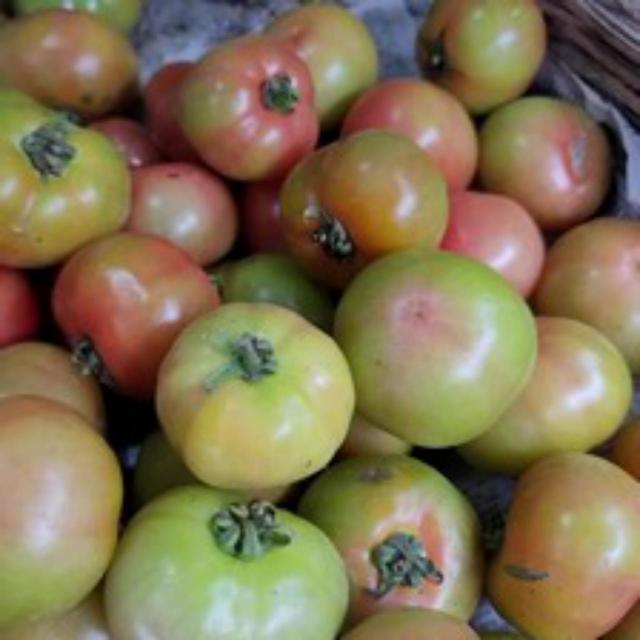tomato: (41, 226, 233, 416), (170, 34, 336, 190)
